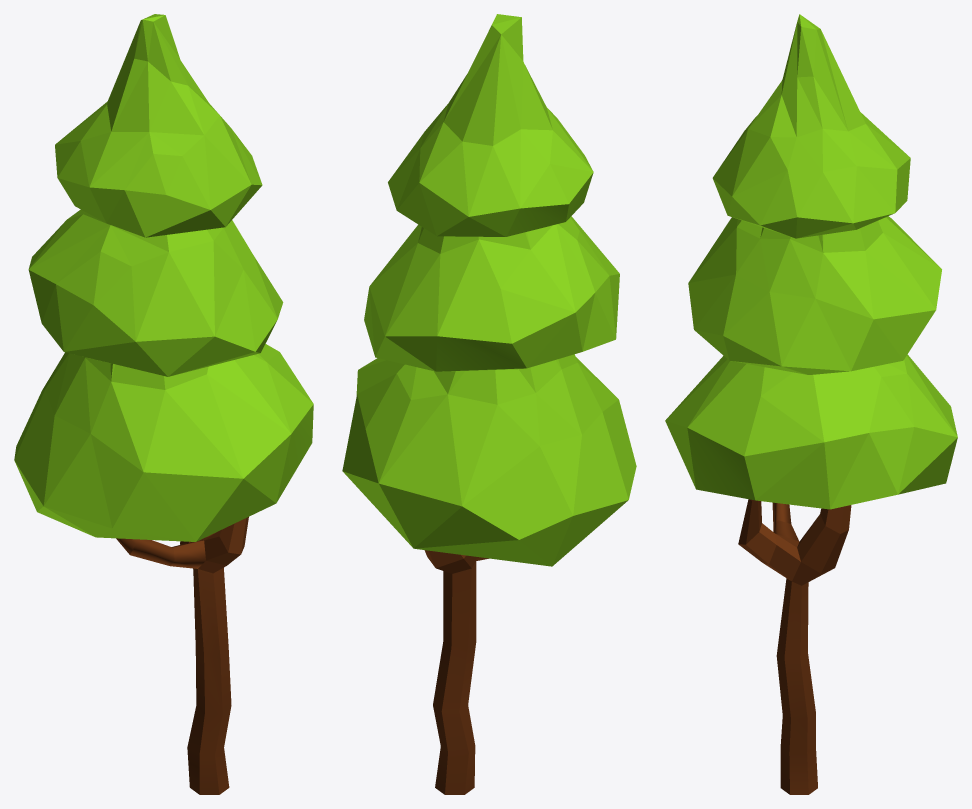
Rendered from Tree7.fbx.
The picture shows the model from 3 angles, left to right: view 1: azimuth 30°, elevation 25°; view 2: azimuth 150°, elevation 25°; view 3: azimuth 270°, elevation 25°; orthographic projection. The views are drawn at different scales.
Parts seen in each view (by area): view 1: Tree7; view 2: Tree7; view 3: Tree7.
Boxes of the visible parts, x1,y1,x2,y2 form: Tree7: (14, 14, 313, 794); Tree7: (342, 14, 636, 794); Tree7: (665, 14, 957, 794).
Size of the model in its own units: 426 by 1258 by 449.
